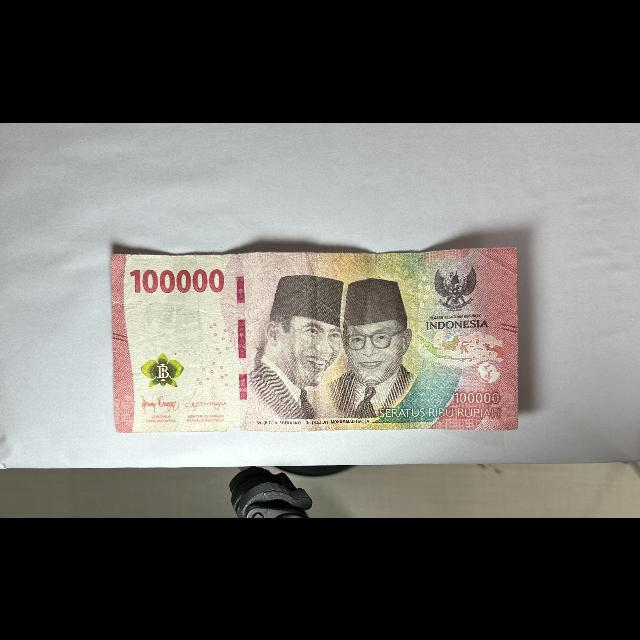Palsu-100k: (110, 245, 519, 433)
Tinta-Palsu-100k: (141, 351, 186, 387)
